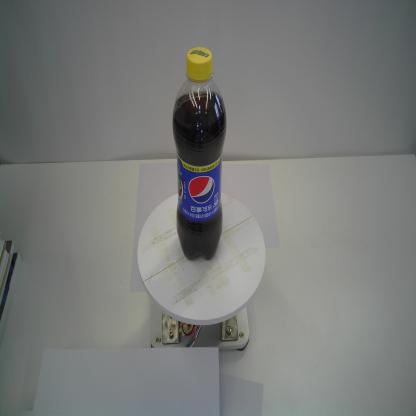Drink: (170, 44, 228, 264)
